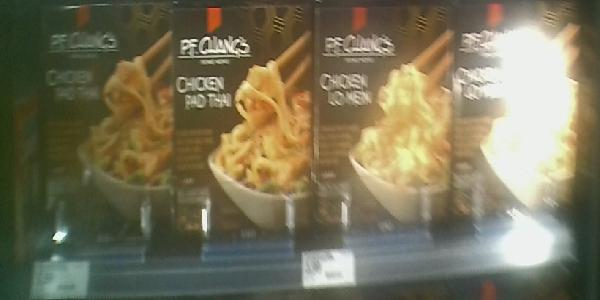pizza1: (37, 1, 175, 251), (177, 3, 317, 244), (317, 3, 457, 242), (456, 1, 585, 236)
